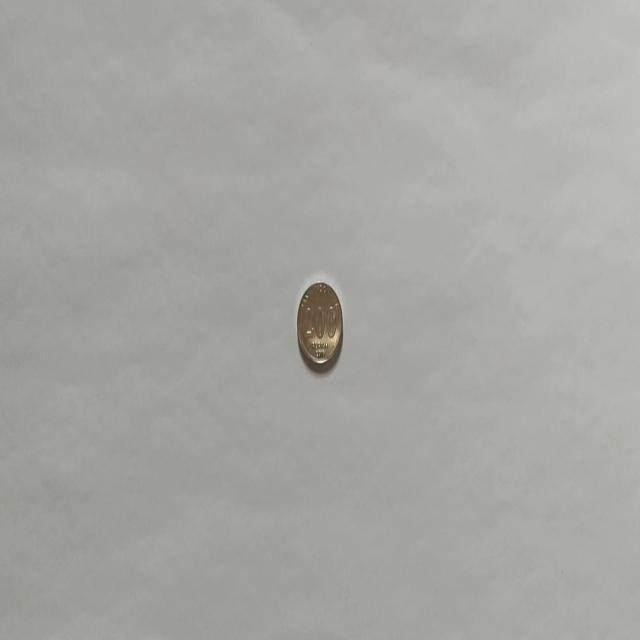dua ratus rupiah: (296, 279, 344, 368)
